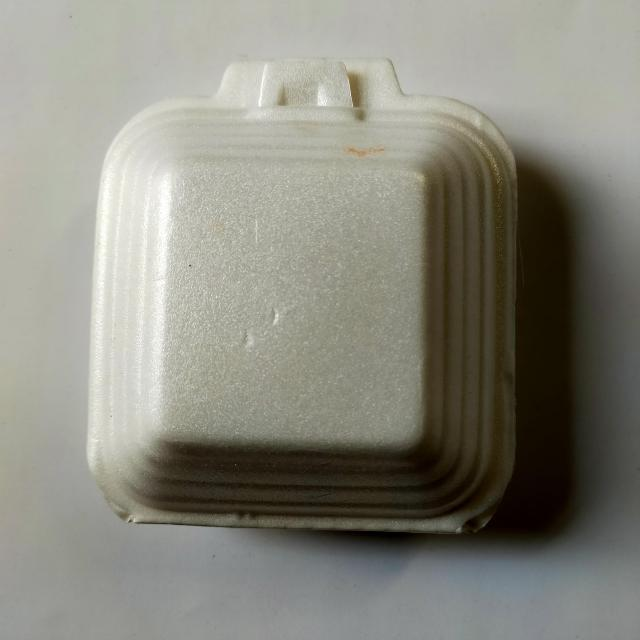styrofoam: (86, 56, 520, 536)
